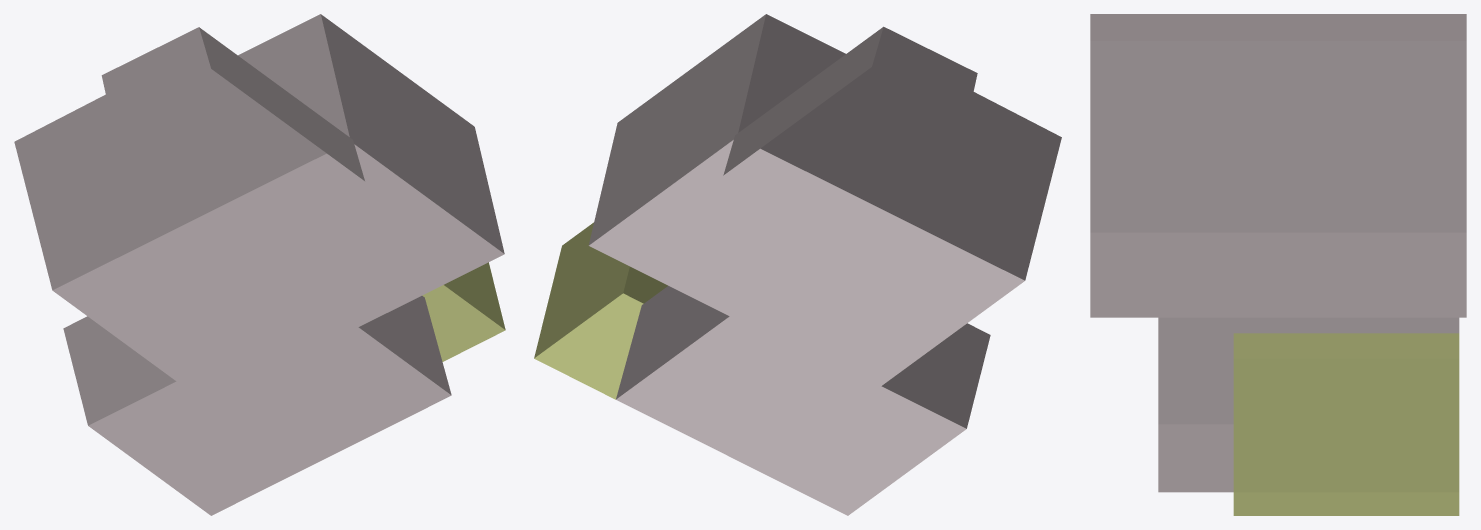
3 renders of one model, left to right at view 1: azimuth 30°, elevation 25°; view 2: azimuth 150°, elevation 25°; view 3: azimuth 270°, elevation 25°, orthographic. The views are drawn at different scales.
Parts seen in each view (by area): view 1: 0_1_3_2_2_1_2_2_0_3; view 2: 0_1_3_2_2_1_2_2_0_3; view 3: 0_1_3_2_2_1_2_2_0_3.
Part boxes in pixels (<box>): 0_1_3_2_2_1_2_2_0_3: <box>14,14,505,515</box>; 0_1_3_2_2_1_2_2_0_3: <box>534,14,1061,515</box>; 0_1_3_2_2_1_2_2_0_3: <box>1090,14,1466,515</box>.
Size of the model in its own units: 22.27 by 19.81 by 15.
